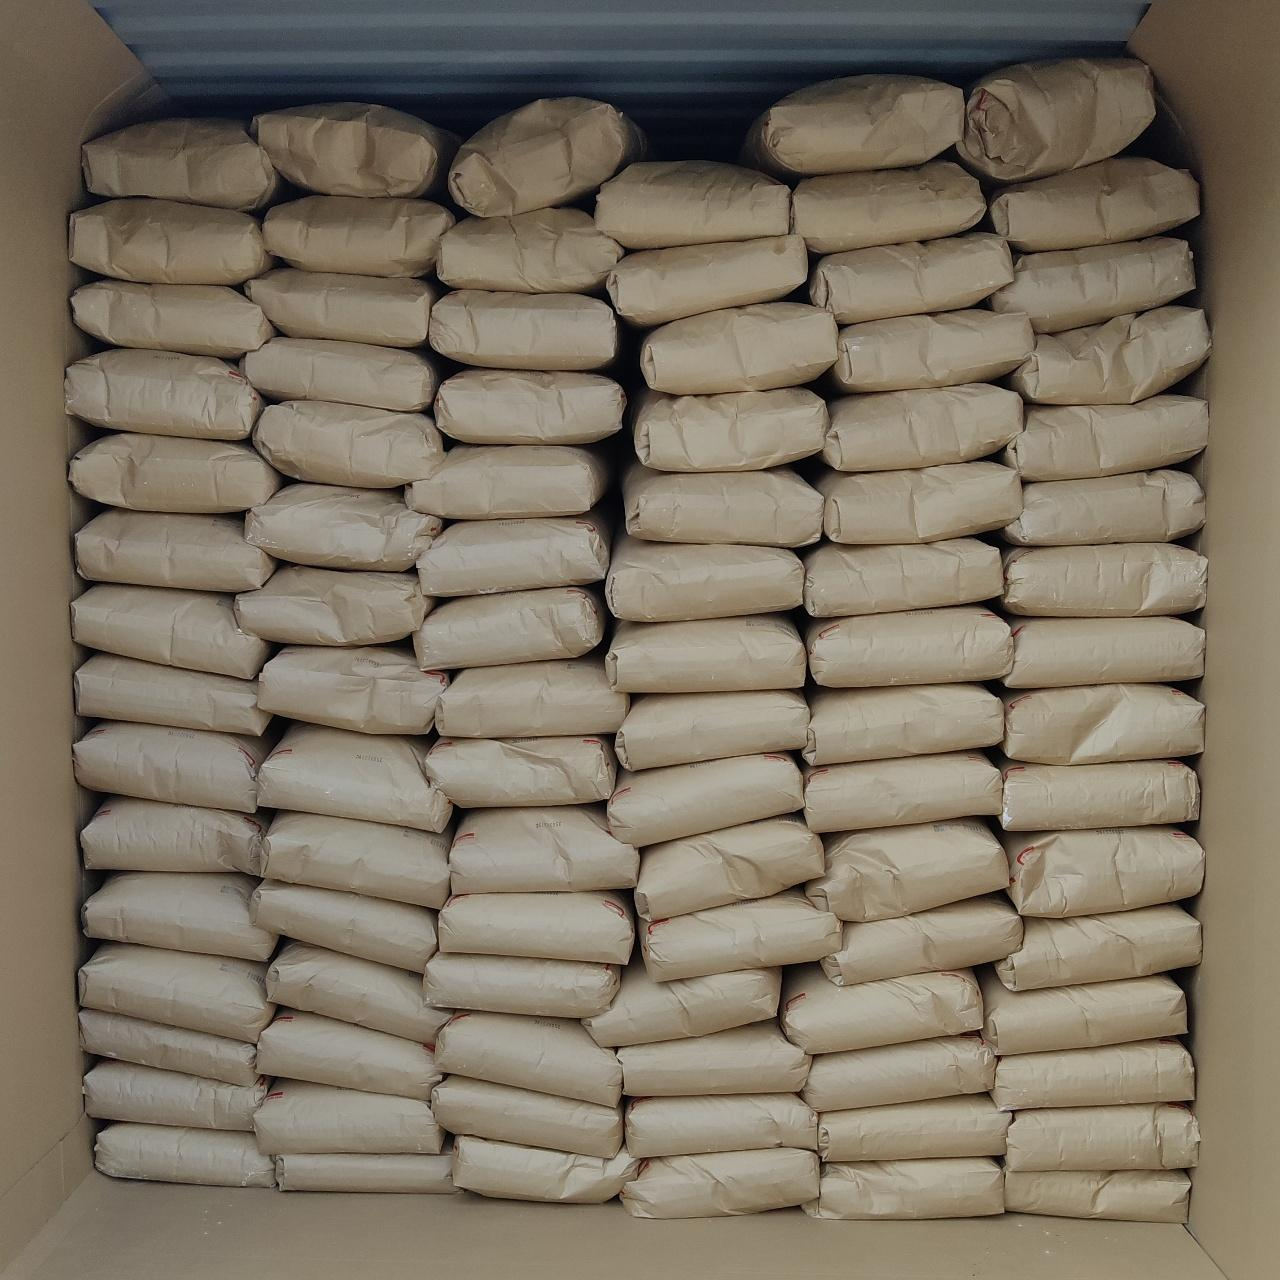sack: (958, 57, 1155, 182), (452, 98, 646, 215), (745, 76, 962, 176), (258, 722, 450, 830), (988, 236, 1194, 332), (986, 156, 1198, 248), (808, 821, 1006, 918), (636, 816, 822, 918), (252, 104, 458, 196), (1008, 306, 1208, 400), (72, 584, 270, 678), (80, 942, 270, 1039), (640, 888, 838, 980), (268, 940, 450, 1040), (82, 120, 282, 210), (608, 754, 802, 846), (260, 812, 450, 906), (810, 234, 1012, 322), (608, 234, 806, 324), (792, 159, 982, 252), (66, 350, 263, 438), (821, 384, 1022, 470), (1002, 394, 1206, 478), (994, 904, 1198, 988), (1006, 828, 1201, 915), (824, 894, 1020, 982), (812, 459, 1020, 542), (642, 302, 836, 390), (258, 644, 445, 734), (70, 200, 272, 284), (782, 968, 982, 1051), (436, 1012, 620, 1102), (606, 535, 799, 620), (82, 872, 275, 958), (76, 722, 270, 808), (804, 606, 1010, 686), (595, 162, 790, 246), (828, 309, 1030, 390), (254, 880, 436, 971), (982, 974, 1186, 1054), (624, 464, 822, 546), (252, 402, 444, 486), (450, 806, 638, 892), (70, 434, 280, 510), (584, 964, 778, 1046), (418, 512, 610, 595), (634, 388, 828, 470), (246, 484, 440, 566), (258, 1010, 438, 1098), (76, 510, 274, 590), (236, 564, 433, 644), (438, 207, 622, 292), (72, 280, 272, 358), (76, 654, 270, 734), (804, 685, 1002, 762), (608, 614, 804, 692), (416, 588, 606, 668), (804, 538, 1002, 614), (264, 196, 452, 275), (804, 753, 998, 830), (1000, 685, 1201, 758), (436, 656, 628, 734), (244, 268, 438, 343), (1000, 544, 1206, 614), (804, 1034, 994, 1110), (1002, 470, 1204, 542), (408, 445, 606, 518), (241, 338, 440, 410), (434, 368, 622, 444), (433, 1078, 620, 1155), (617, 690, 806, 765), (430, 290, 617, 366), (1000, 758, 1198, 830), (620, 1020, 808, 1094), (82, 796, 264, 872), (1002, 618, 1201, 686), (440, 892, 632, 962), (82, 1010, 260, 1085), (994, 1040, 1190, 1108), (425, 736, 614, 806), (256, 1080, 442, 1150), (622, 1150, 818, 1214), (452, 1136, 638, 1201), (86, 1060, 264, 1128), (818, 1094, 1006, 1158), (1006, 1104, 1198, 1166), (424, 954, 620, 1014), (806, 1158, 1002, 1218), (626, 1094, 813, 1156), (96, 1124, 270, 1184), (1006, 1170, 1189, 1223), (278, 1155, 454, 1190)
